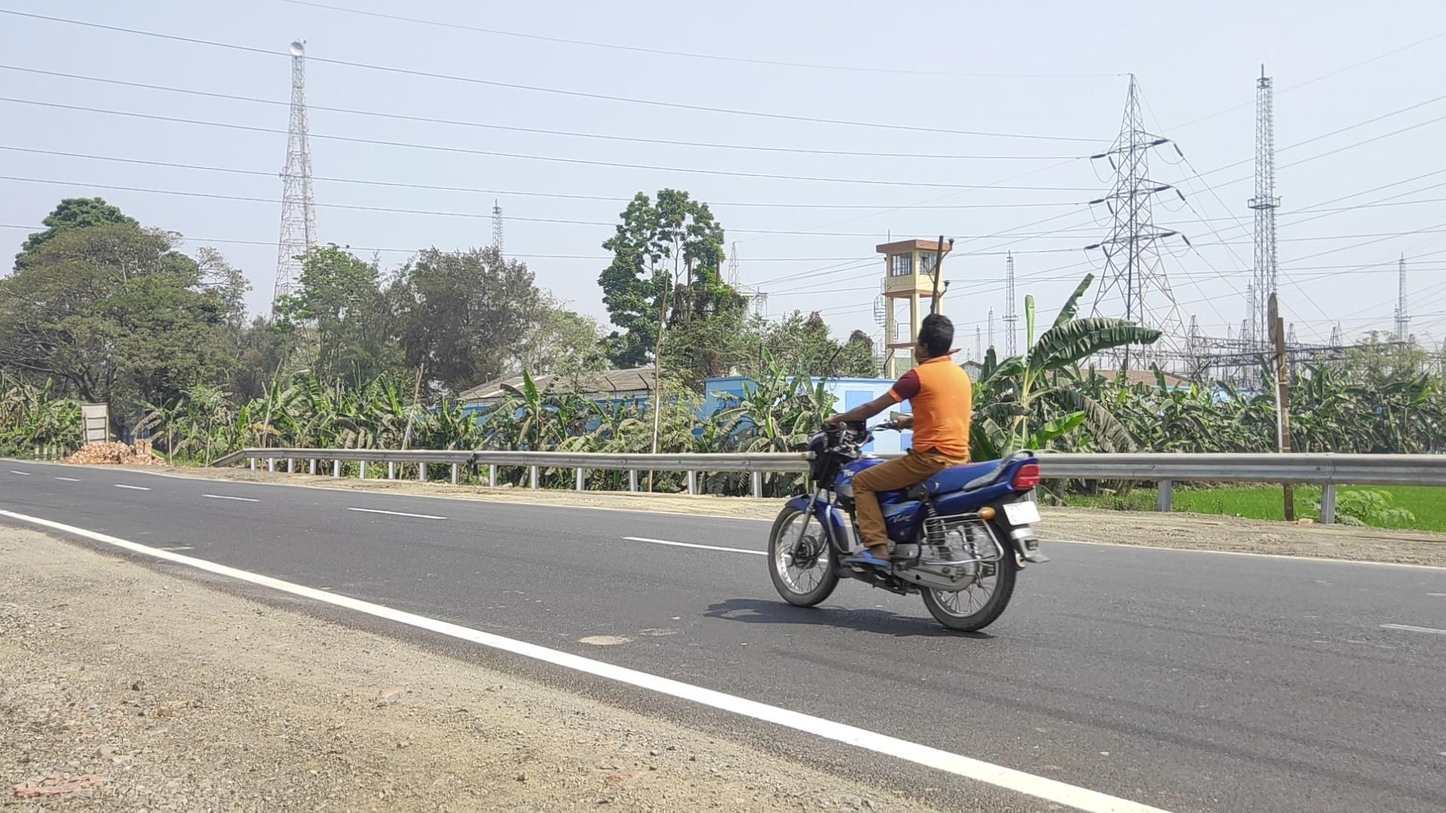bike: (769, 314, 1050, 632)
